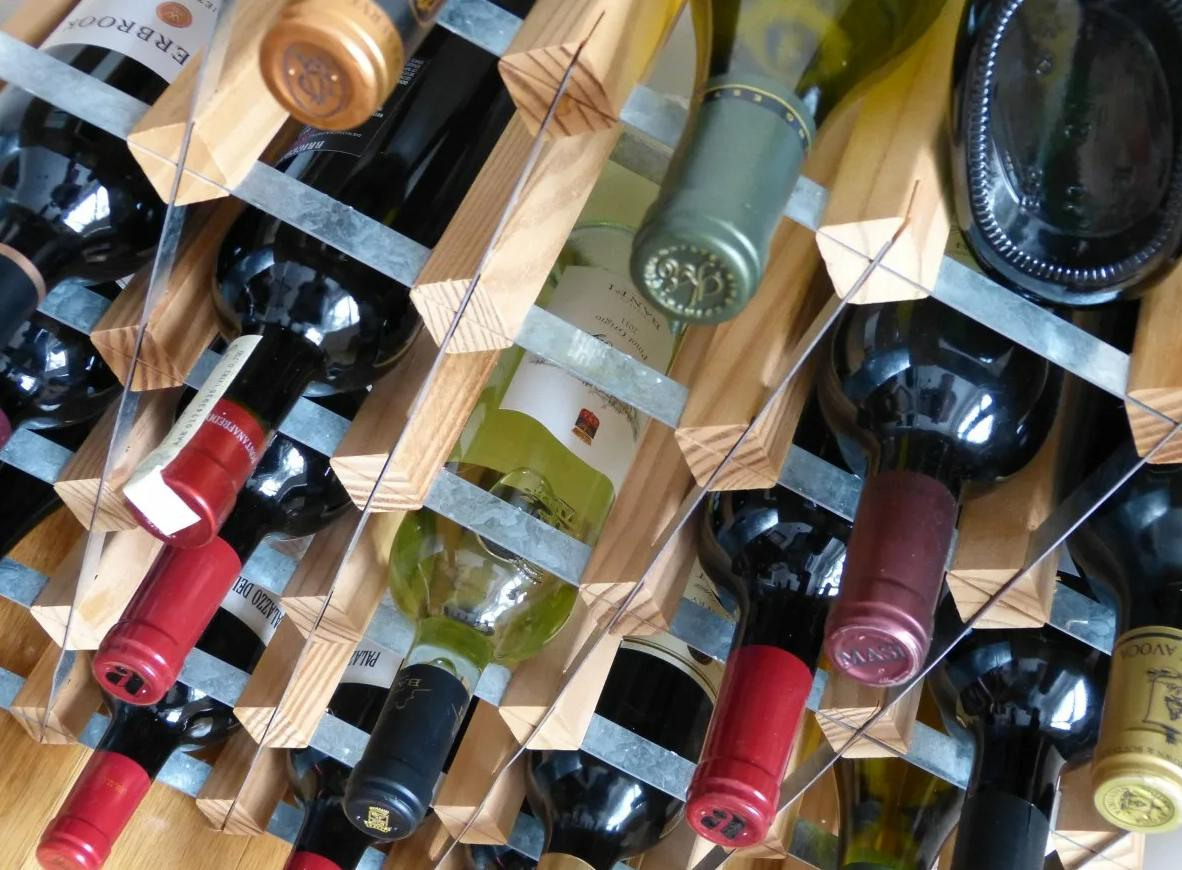wine bottle: (121, 0, 537, 551), (340, 228, 691, 847), (630, 0, 949, 325), (807, 298, 1066, 683), (90, 382, 377, 705), (684, 393, 871, 850), (0, 0, 232, 359), (31, 576, 285, 868), (949, 0, 1182, 307), (1050, 294, 1182, 834), (275, 639, 406, 870)
wine label: (501, 265, 680, 488), (283, 57, 429, 161), (225, 578, 287, 639), (344, 638, 406, 689)
